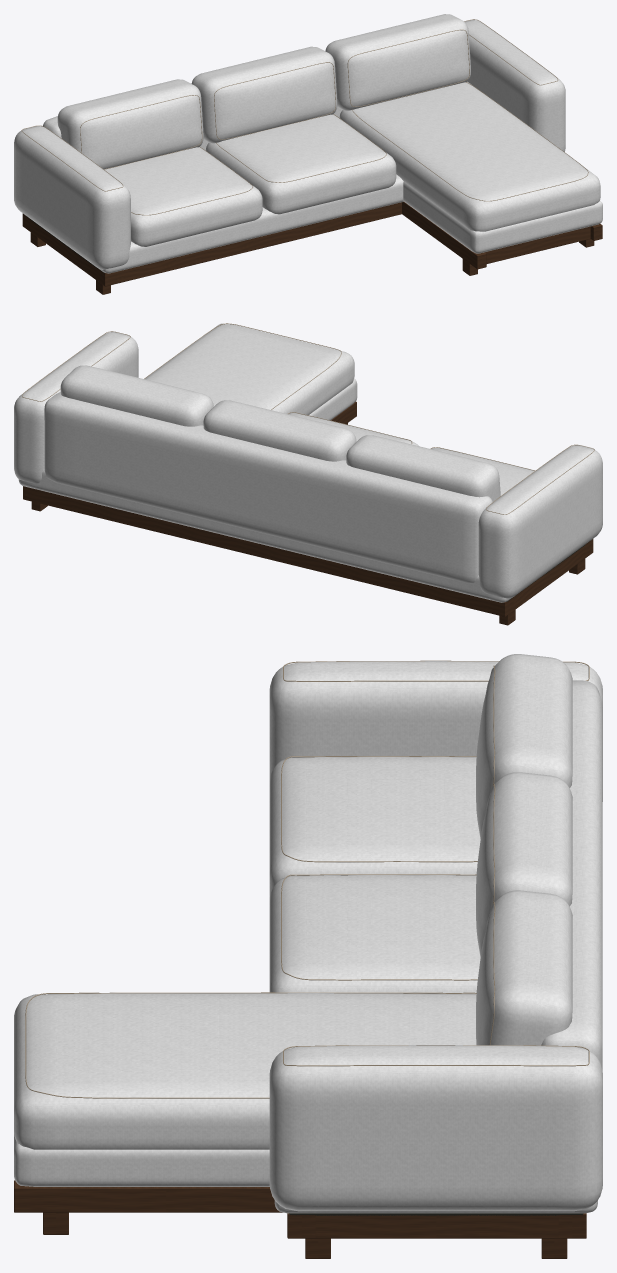
File: arc-chaise.glb
3 views of the same model, one above another, from view 1: azimuth 30°, elevation 25°; view 2: azimuth 150°, elevation 25°; view 3: azimuth 270°, elevation 25° (orthographic). The views are drawn at different scales.
Visible parts, largest first — view 1: Seat panel 3 | crowned top, Seat panel 2 | crowned top, Tailored arm | left, Seat panel 1 | crowned top, Back cushion 3 | tensioned face, Back cushion 2 | tensioned face, Back cushion 1 | tensioned face, Tailored arm | right, Upholstered support platform, Chaise | independent extended support, Walnut | long rail, Chaise | front walnut rail (+4 smaller); view 2: Continuous upholstered rear rail, Tailored arm | left, Seat panel 3 | crowned top, Walnut | long rail.001, Upholstered support platform, Tailored arm | right, Back cushion 1 | tensioned face, Back cushion 2 | tensioned face, Back cushion 3 | tensioned face, Walnut | return rail, Seat panel 1 | crowned top, Chaise | independent extended support (+1 smaller); view 3: Tailored arm | right, Seat panel 3 | crowned top, Seat panel 1 | crowned top, Seat panel 2 | crowned top, Tailored arm | left, Back cushion 3 | tensioned face, Continuous upholstered rear rail, Back cushion 2 | tensioned face, Back cushion 1 | tensioned face, Chaise | independent extended support, Chaise | longitudinal walnut rail.001, Walnut | return rail.001 (+4 smaller).
Boxes of the visible parts, x1=… form: Seat panel 3 | crowned top: x1=339, y1=81, x2=600, y2=231; Seat panel 2 | crowned top: x1=205, y1=114, x2=396, y2=214; Tailored arm | left: x1=14, y1=126, x2=130, y2=269; Seat panel 1 | crowned top: x1=104, y1=147, x2=262, y2=246; Back cushion 3 | tensioned face: x1=325, y1=14, x2=470, y2=110; Back cushion 2 | tensioned face: x1=191, y1=46, x2=337, y2=143; Back cushion 1 | tensioned face: x1=57, y1=79, x2=203, y2=169; Tailored arm | right: x1=464, y1=20, x2=565, y2=151; Upholstered support platform: x1=99, y1=174, x2=403, y2=273; Chaise | independent extended support: x1=403, y1=182, x2=602, y2=253; Walnut | long rail: x1=97, y1=202, x2=401, y2=286; Chaise | front walnut rail: x1=485, y1=226, x2=590, y2=263; Continuous upholstered rear rail: x1=44, y1=392, x2=492, y2=582; Tailored arm | left: x1=478, y1=445, x2=602, y2=598; Seat panel 3 | crowned top: x1=144, y1=323, x2=354, y2=415; Walnut | long rail.001: x1=23, y1=486, x2=513, y2=616; Upholstered support platform: x1=18, y1=469, x2=512, y2=602; Tailored arm | right: x1=14, y1=332, x2=138, y2=483; Back cushion 1 | tensioned face: x1=346, y1=435, x2=500, y2=501; Back cushion 2 | tensioned face: x1=203, y1=400, x2=356, y2=461; Back cushion 3 | tensioned face: x1=60, y1=365, x2=213, y2=426; Walnut | return rail: x1=513, y1=545, x2=585, y2=610; Seat panel 1 | crowned top: x1=431, y1=447, x2=534, y2=495; Chaise | independent extended support: x1=309, y1=378, x2=357, y2=420; Tailored arm | right: x1=269, y1=1045, x2=602, y2=1211; Seat panel 3 | crowned top: x1=14, y1=993, x2=476, y2=1149; Seat panel 1 | crowned top: x1=269, y1=756, x2=480, y2=896; Seat panel 2 | crowned top: x1=269, y1=875, x2=480, y2=993; Tailored arm | left: x1=269, y1=661, x2=602, y2=801; Back cushion 3 | tensioned face: x1=476, y1=890, x2=572, y2=1045; Continuous upholstered rear rail: x1=541, y1=680, x2=602, y2=1069; Back cushion 2 | tensioned face: x1=476, y1=772, x2=572, y2=956; Back cushion 1 | tensioned face: x1=476, y1=654, x2=572, y2=838; Chaise | independent extended support: x1=14, y1=1134, x2=269, y2=1186; Chaise | longitudinal walnut rail.001: x1=14, y1=1180, x2=282, y2=1212; Walnut | return rail.001: x1=306, y1=1215, x2=558, y2=1238.
Bounding box in the file's own units: 3.04 × 0.8169 × 1.82.
Materials: 4 (2 with a texture image).
